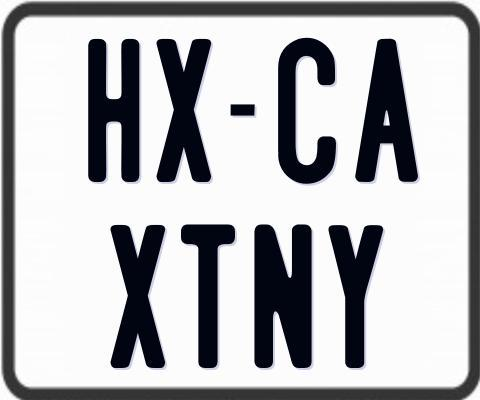A: (354, 37, 422, 183)
C: (277, 38, 336, 184)
H: (86, 37, 139, 181)
N: (254, 223, 314, 373)
T: (181, 221, 238, 368)
X: (108, 225, 166, 374), (156, 37, 214, 181)
Y: (328, 225, 385, 369)
